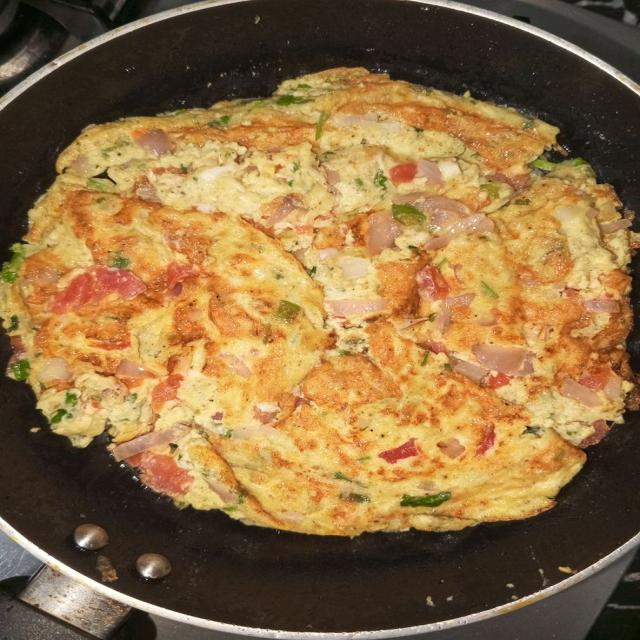omelette: (0, 69, 632, 535)
